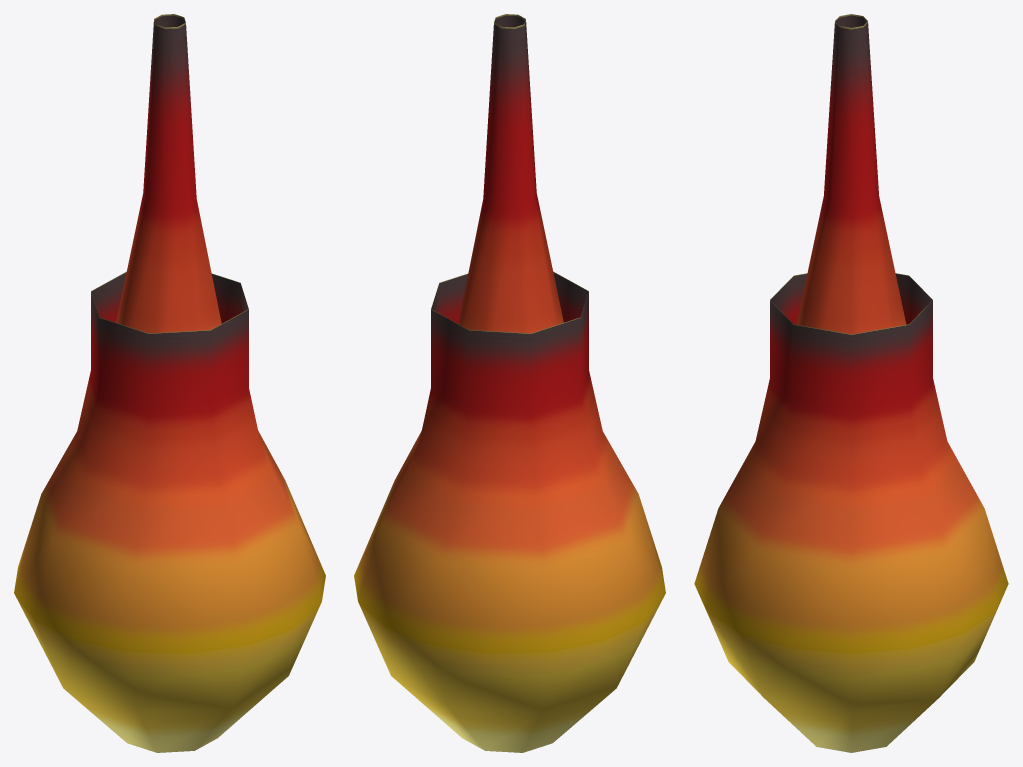
The model's file is flame.FBX.
3 renders of one model, left to right at view 1: azimuth 30°, elevation 25°; view 2: azimuth 150°, elevation 25°; view 3: azimuth 270°, elevation 25°, orthographic.
Visible parts, largest first — view 1: flame; view 2: flame; view 3: flame.
Boxes of the visible parts, x1,y1,x2,y2 form: flame: (14, 14, 325, 752); flame: (354, 14, 665, 752); flame: (694, 14, 1008, 752).
Size of the model in its own units: 114 by 114 by 286.
Materials: 1 (1 with a texture image).
